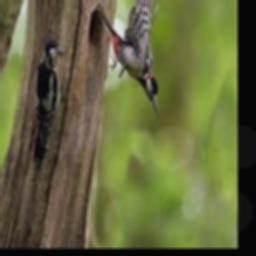Woodpecker: (101, 0, 158, 110), (34, 39, 66, 167)
